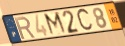2: (61, 10, 80, 35)
4: (36, 14, 50, 38)
8: (92, 7, 108, 30)
C: (76, 7, 95, 34)
M: (42, 11, 69, 37)
R: (14, 16, 37, 41)
